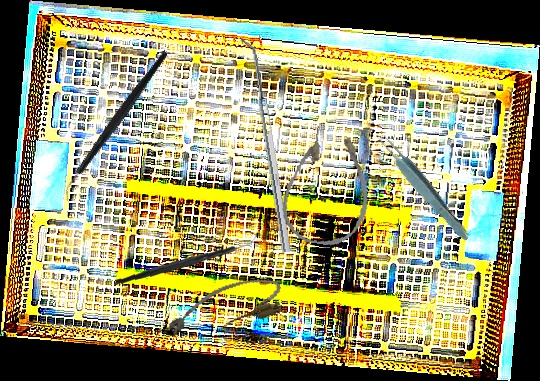Cannula: (276, 122, 380, 251), (158, 270, 288, 346)
Chopper: (27, 50, 206, 203), (116, 224, 256, 295)
Spatula Surgical: (240, 37, 291, 254)
Tissue Forceps: (373, 129, 475, 245)
